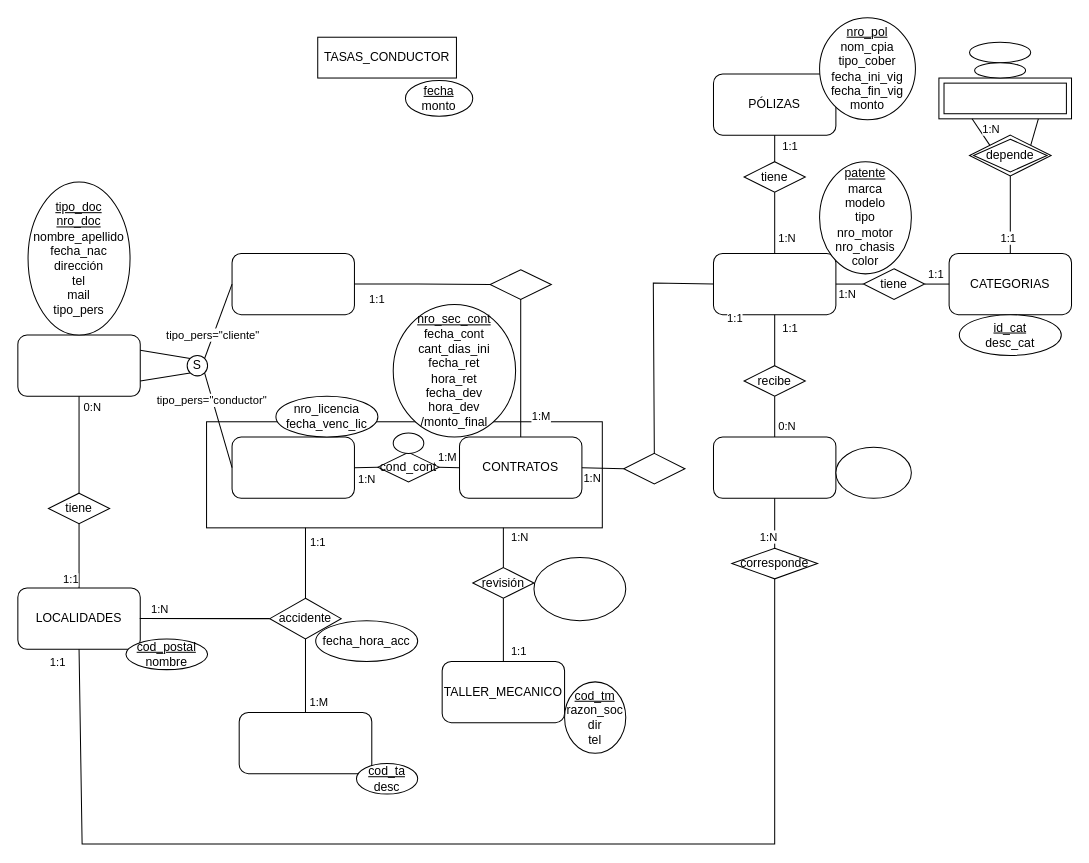
This 1089x863 diagram has some shape labels left out. Each missing label, with the centre of its shape:
"alquiler" belongs at (520,284).
"asocia" belongs at (654,468).
"CLIENTES" belongs at (292,283).
"CONDUCTORES" belongs at (292,467).
"fecha_ini" belongs at (999,52).
"monto" belongs at (1000,70).
"MULTAS" belongs at (774,467).
"nro_mu fecha_hora motivo" belongs at (873,472).
"observaciones fecha_ingreso fecha_entrega" belongs at (579,588).
"PERSONAS" belongs at (78,365).
"TARIFAS_DIARIAS" belongs at (1005,98).
"tipo" belongs at (408,442).
"TIPOS_ACCIDENTES" belongs at (305,742).
"VEHÍCULOS" belongs at (774,283).
